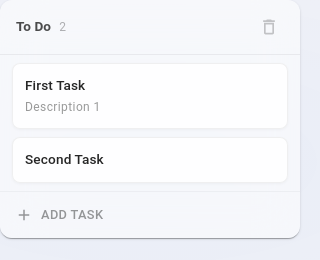
it: KanbanColumn › switches to inline edit when column name clicked
The width and height of the screenshot is (320, 260).
Click the heading "To Do2" at [41, 26], box x1=16 y1=18 x2=66 y2=34
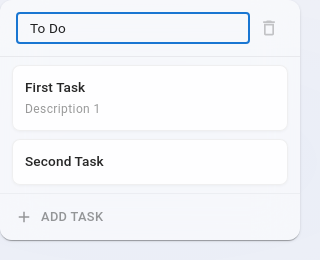
Now the field showing "To Do" is shown, box x1=16 y1=10 x2=250 y2=46
